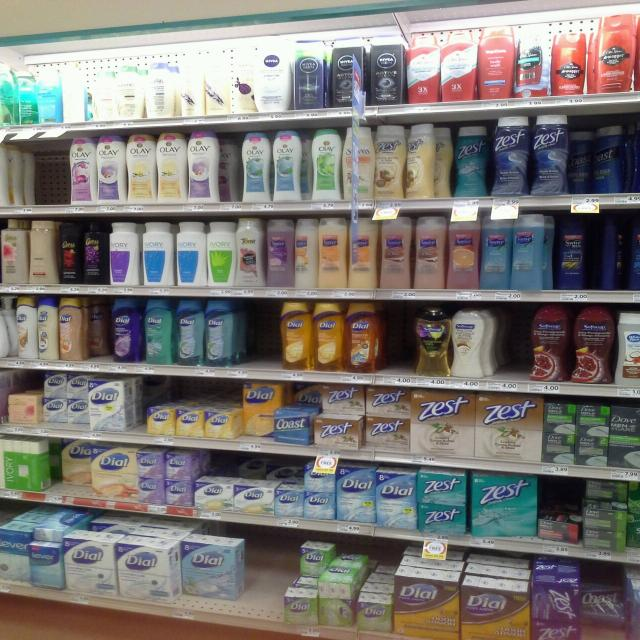void: (249, 534, 278, 631), (241, 299, 275, 381), (26, 146, 62, 218), (588, 565, 624, 635), (499, 308, 524, 396), (387, 304, 410, 387)
